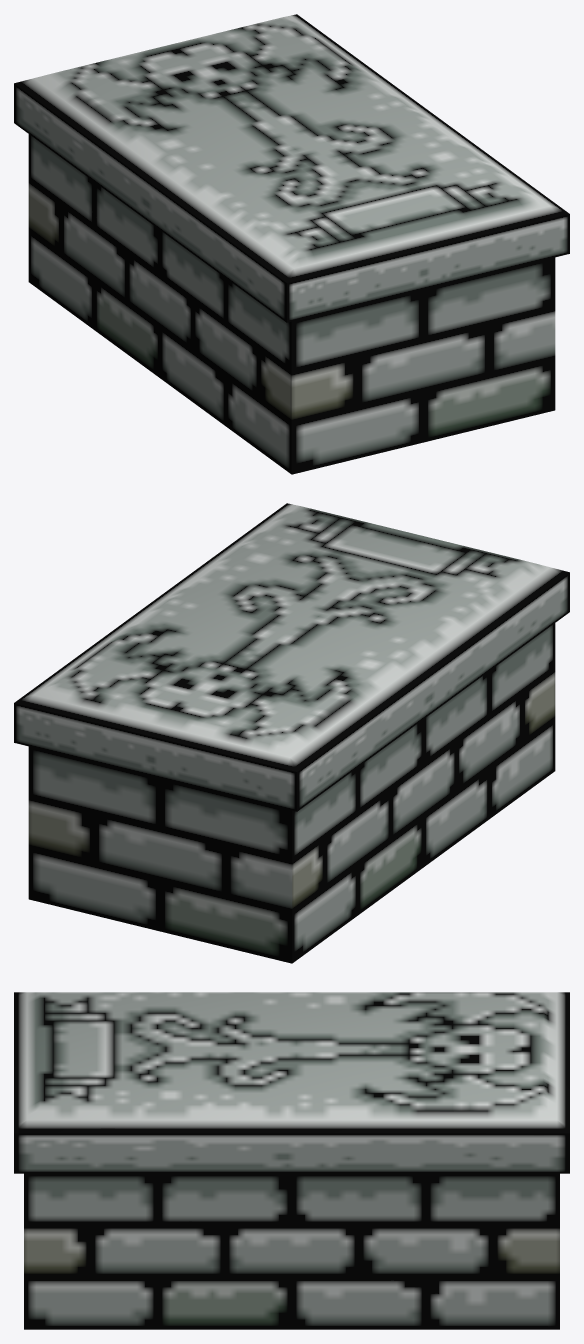
Rendered from deco_cathedral_tomb.FBX.
3 views of the same model, one above another, from view 1: azimuth 30°, elevation 25°; view 2: azimuth 150°, elevation 25°; view 3: azimuth 270°, elevation 25° (orthographic).
Visible parts, largest first — view 1: deco_cathedral_tomb; view 2: deco_cathedral_tomb; view 3: deco_cathedral_tomb.
Boxes of the visible parts, left/top/right/bottom form: deco_cathedral_tomb: left=14, top=14, right=569, bottom=474; deco_cathedral_tomb: left=14, top=503, right=569, bottom=963; deco_cathedral_tomb: left=14, top=992, right=569, bottom=1329.
Size of the model in its own units: 2.07 by 1.47 by 3.45.
1 material, 1 textured.
